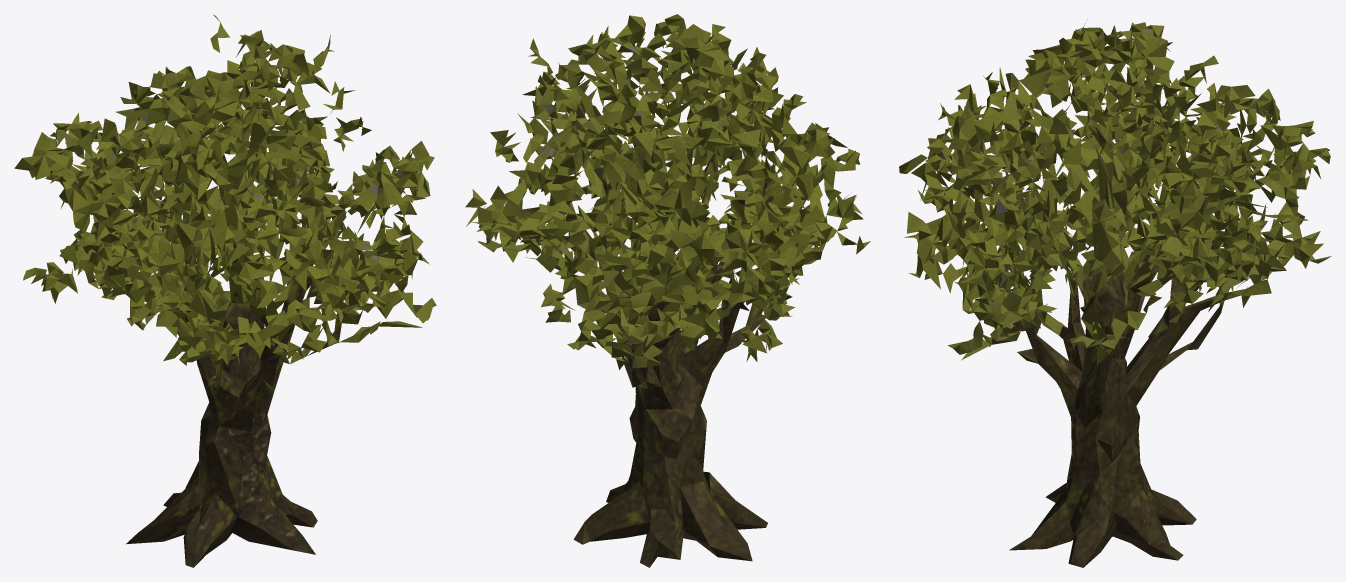
File: tree.glb
The picture shows the model from 3 angles, left to right: view 1: azimuth 30°, elevation 25°; view 2: azimuth 150°, elevation 25°; view 3: azimuth 270°, elevation 25°; orthographic projection. The views are drawn at different scales.
Bounding box in the file's own units: 1.28 × 1.8 × 1.38.
1 material, 1 textured.
